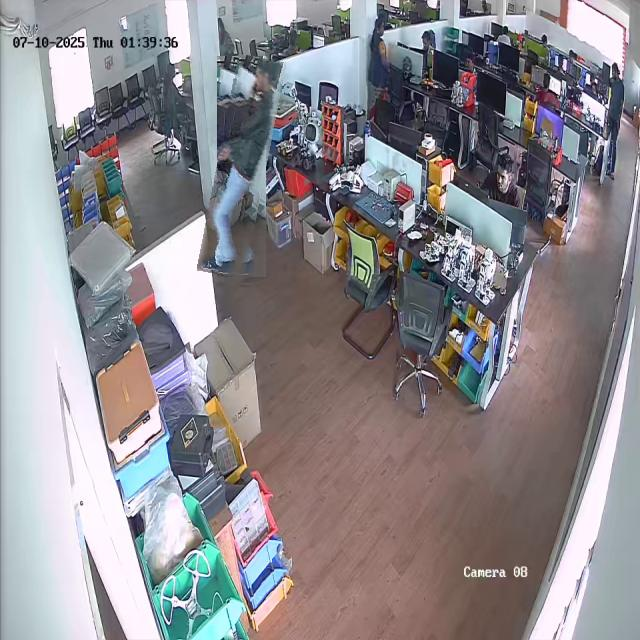person: (207, 55, 276, 278)
